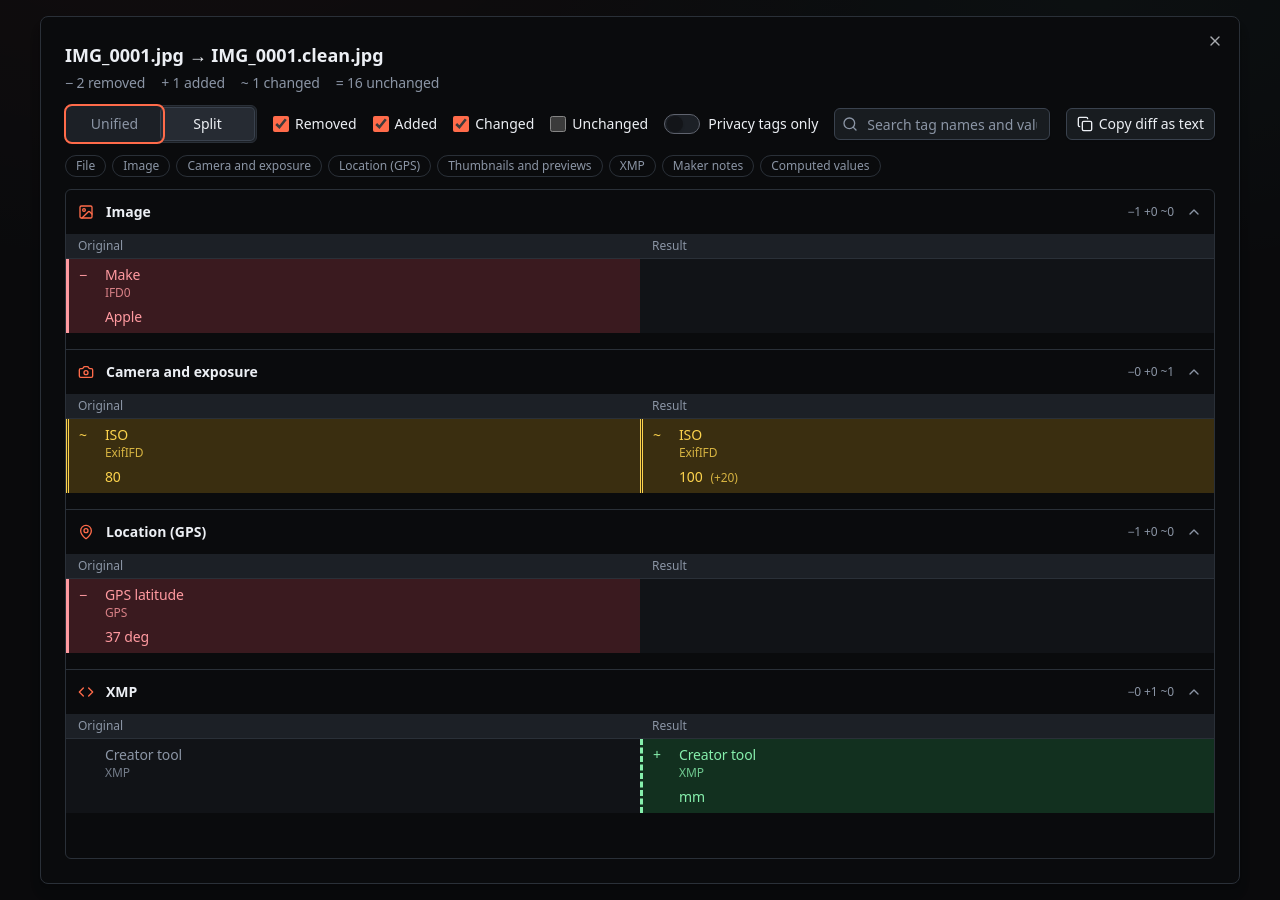
Test: MetadataDiffModal › switches between split and unified markup, changed rows become a - then + line
The width and height of the screenshot is (1280, 900).
Expected: the row with test id "diff-row" showing "− Make IFD0 Apple" is shown, [66,259,1214,333]
Click the radio button labelled "Unified" at [114, 124], box [91,114,138,133]
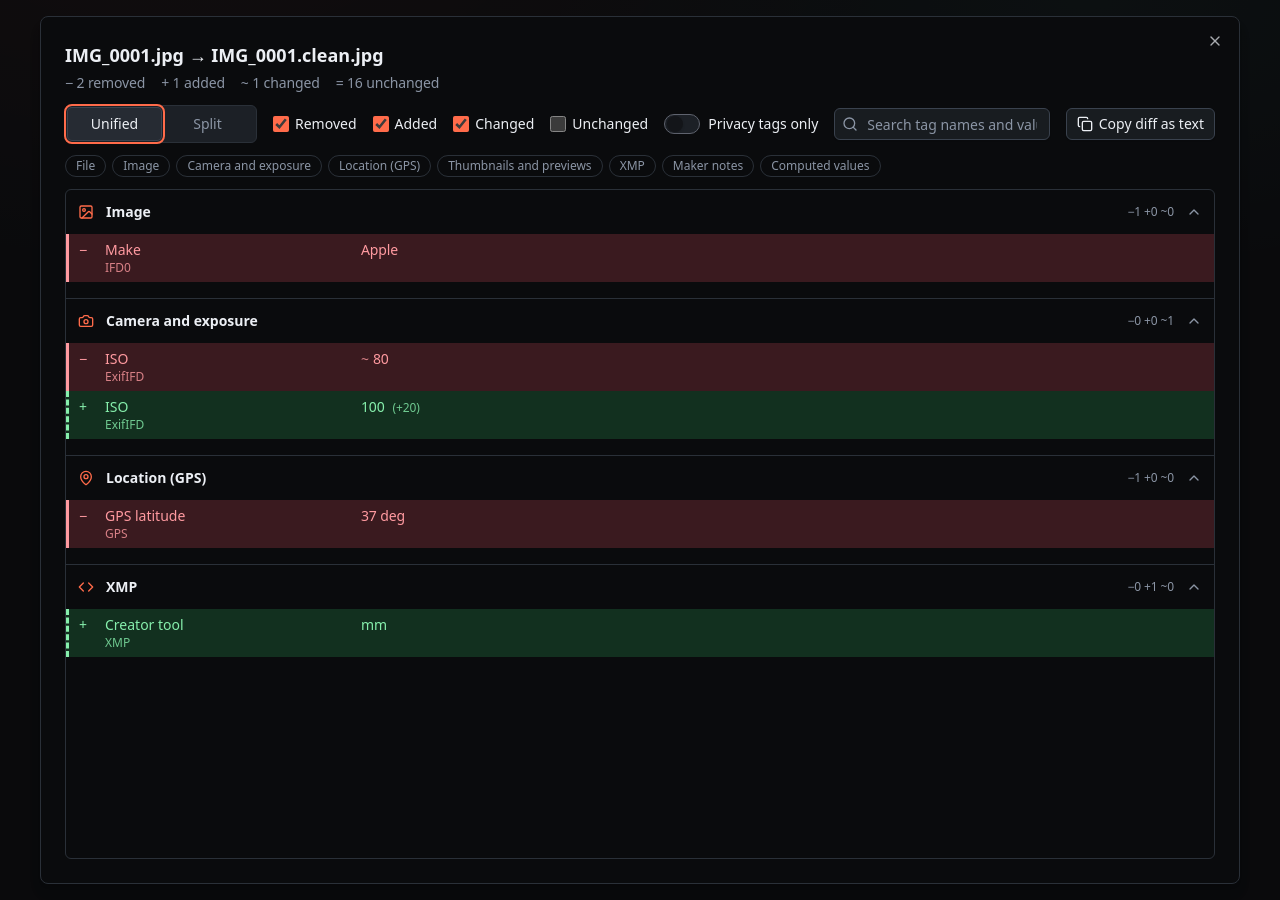
Expected: the row with test id "diff-row" showing "− Make IFD0 Apple" is shown, [66,234,1214,282]
Expected: the cell with test id "diff-gutter" in the row of "80" reads "−", [79,349,87,368]
Expected: the cell with test id "diff-gutter" in the row of "100" reads "+", [79,397,87,416]
